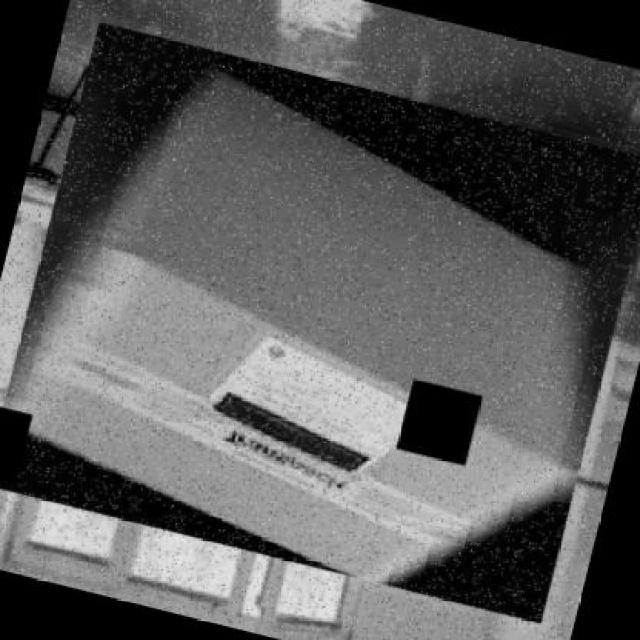box: (0, 11, 640, 632)
